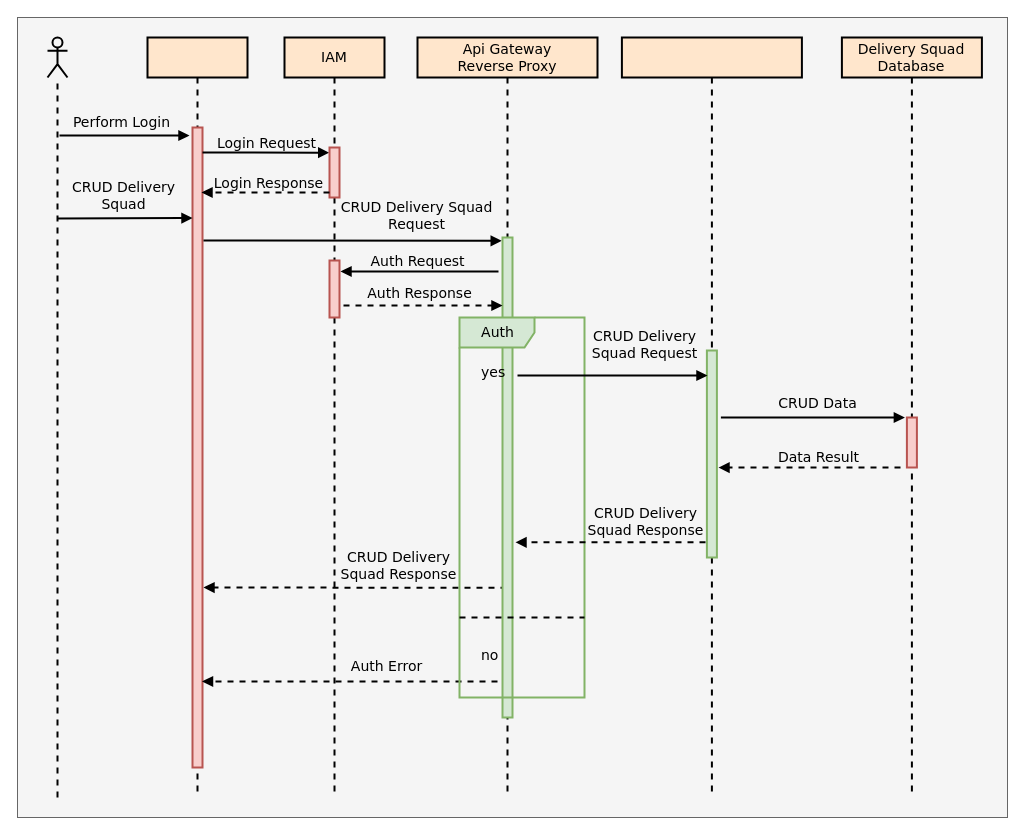
Some shapes in this 1025 by 835 pixel diagram are drawn without their labels. Here are the shapes that lost their labels. From the top down, the box of each, then its label:
(146, 36, 248, 798): Website
(620, 36, 802, 798): Delivery Squad Service
